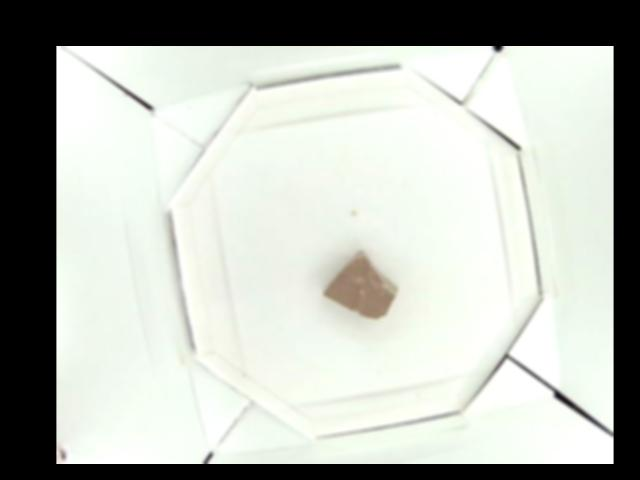China: (322, 250, 396, 319)
